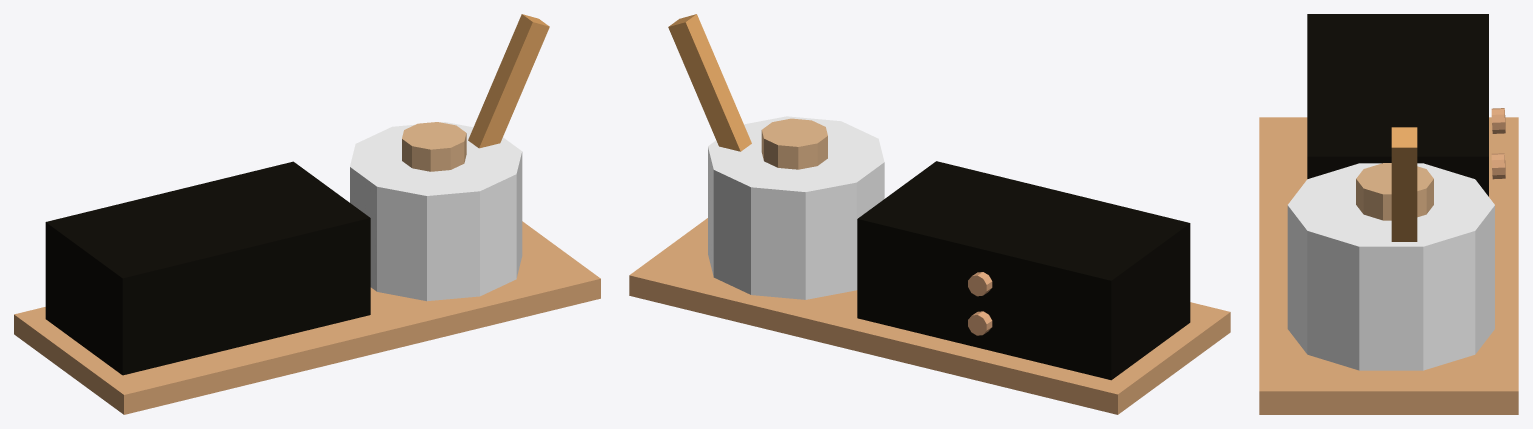
Rendered from 調味料2.fbx.
The picture shows the model from 3 angles, left to right: view 1: azimuth 30°, elevation 25°; view 2: azimuth 150°, elevation 25°; view 3: azimuth 270°, elevation 25°; orthographic projection. The views are drawn at different scales.
Visible parts, largest first — view 1: Cube.011; view 2: Cube.011; view 3: Cube.011.
Part boxes in pixels (left/top/right/bottom): Cube.011: left=14, top=14, right=600, bottom=414; Cube.011: left=629, top=14, right=1230, bottom=414; Cube.011: left=1259, top=14, right=1518, bottom=414.
Bounding box in the file's own units: 505 × 239 × 200.
